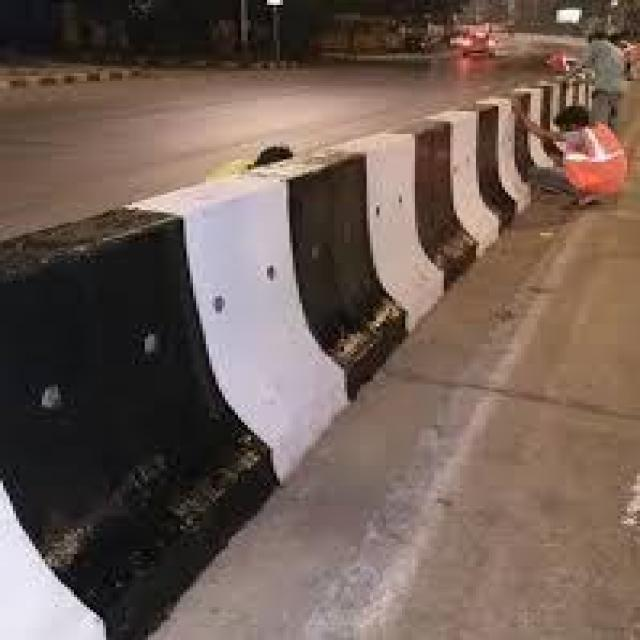curb: (173, 128, 386, 518), (1, 187, 157, 640), (364, 104, 512, 339)
